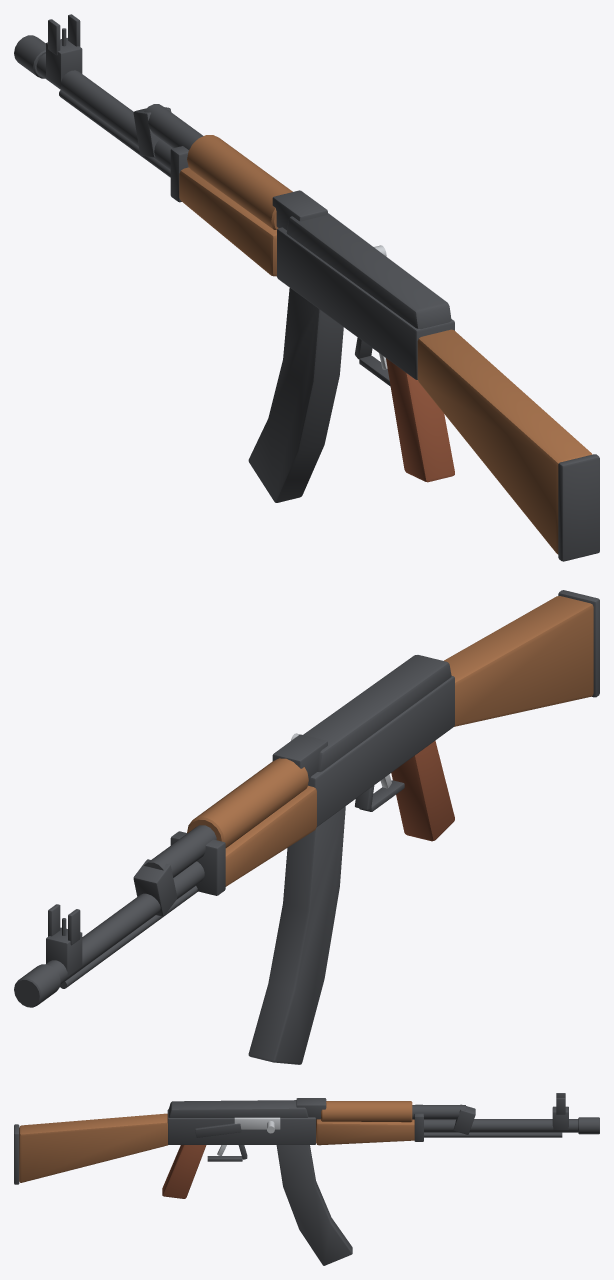
The picture shows the model from 3 angles, top to bottom: view 1: azimuth 30°, elevation 25°; view 2: azimuth 150°, elevation 25°; view 3: azimuth 270°, elevation 25°; orthographic projection. The views are drawn at different scales.
Visible parts, largest first — view 1: AK47_Body, AK47_Magazine; view 2: AK47_Body, AK47_Magazine; view 3: AK47_Body, AK47_Magazine, AK47_Bolt.
Boxes of the visible parts, x1,y1,x2,y2 form: AK47_Body: [14, 14, 599, 561]; AK47_Magazine: [248, 288, 343, 502]; AK47_Body: [14, 590, 599, 1007]; AK47_Magazine: [248, 806, 345, 1064]; AK47_Body: [14, 1093, 599, 1198]; AK47_Magazine: [276, 1145, 352, 1265]; AK47_Bolt: [234, 1117, 280, 1133].
Size of the model in its own units: 0.0615 by 0.2733 by 0.869.
